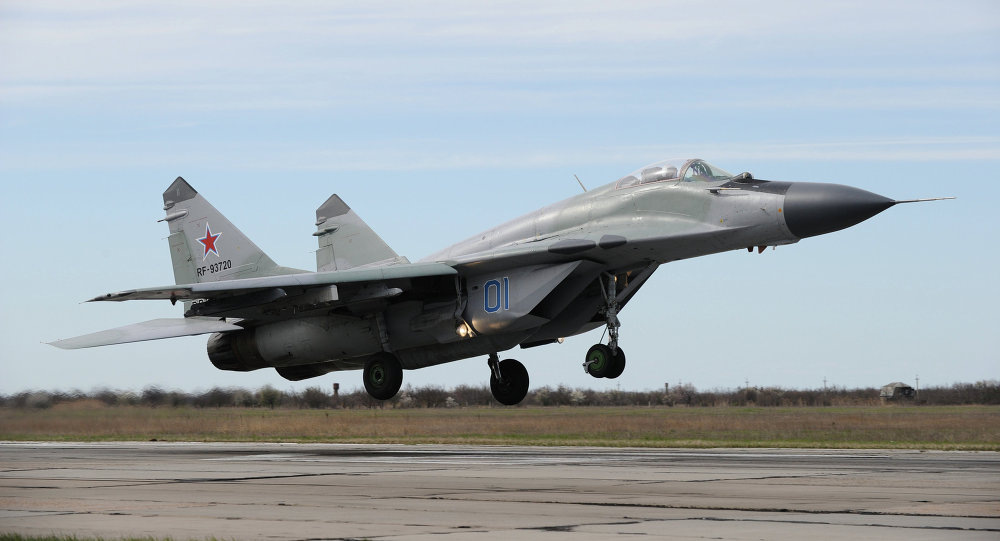Mig-29: (67, 104, 902, 429)
